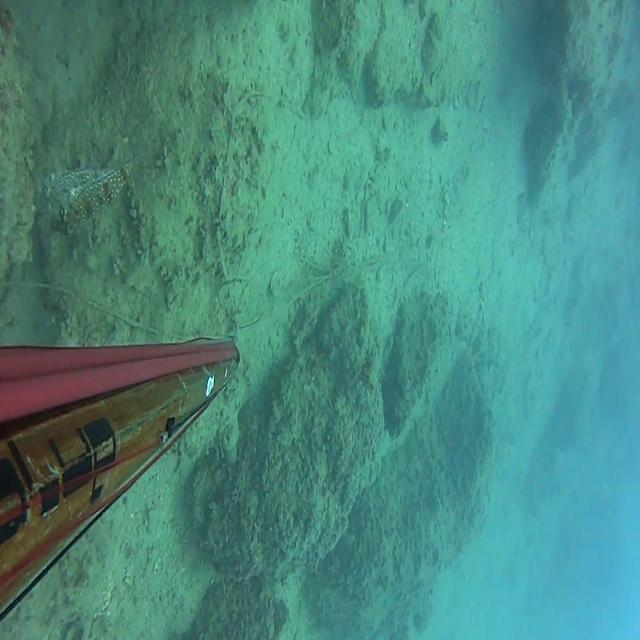Balon Baligi: (49, 151, 138, 235)
